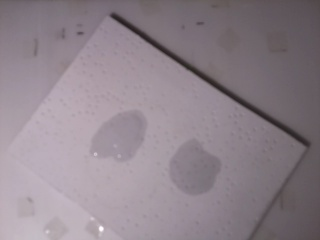Water_detected: (178, 151, 217, 191), (99, 124, 137, 165)
